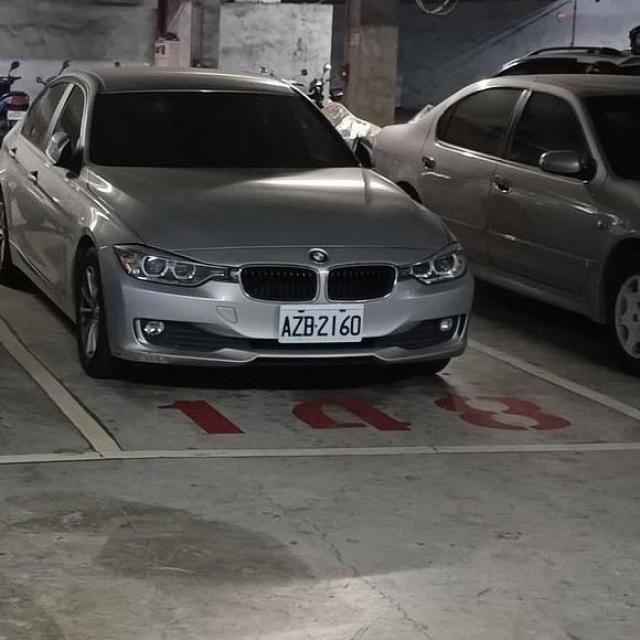W: (277, 296, 366, 348)
